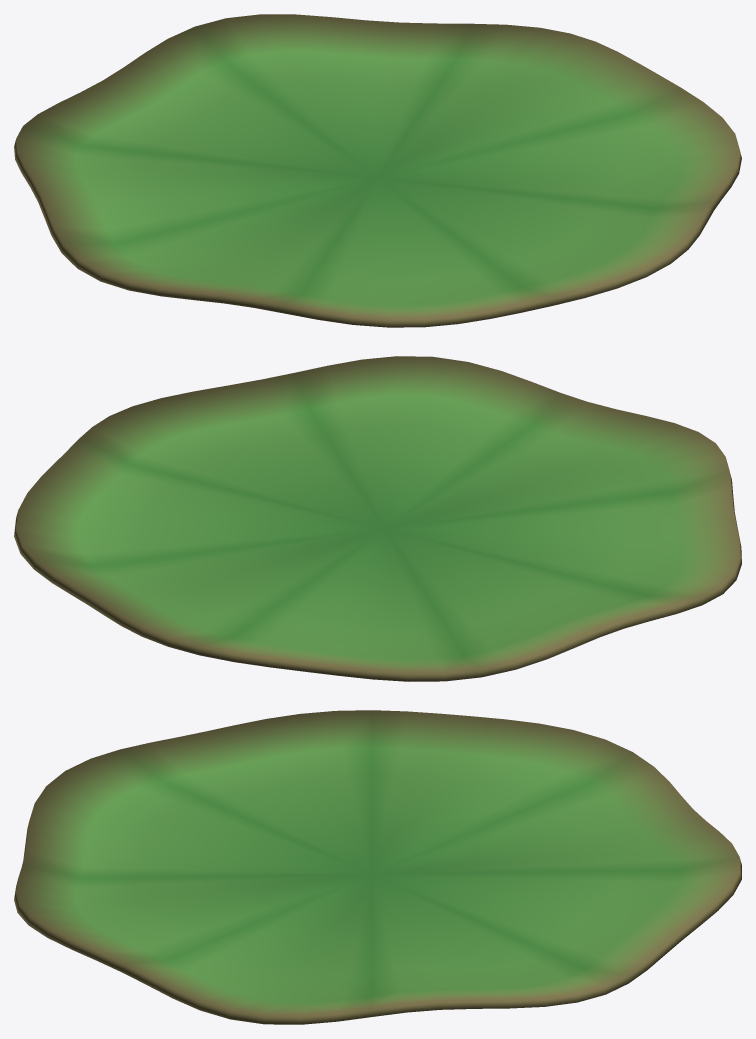
Rendered from LilyPad_Col.fbx.
The picture shows the model from 3 angles, top to bottom: view 1: azimuth 30°, elevation 25°; view 2: azimuth 150°, elevation 25°; view 3: azimuth 270°, elevation 25°; orthographic projection.
Visible parts, largest first — view 1: LilyPad_Col; view 2: LilyPad_Col; view 3: LilyPad_Col.
Part boxes in pixels (bbox=[...]): LilyPad_Col: bbox=[14, 14, 741, 327]; LilyPad_Col: bbox=[14, 356, 741, 681]; LilyPad_Col: bbox=[14, 710, 741, 1024].
Bounding box in the file's own units: 6.11 × 0.2918 × 6.09.
